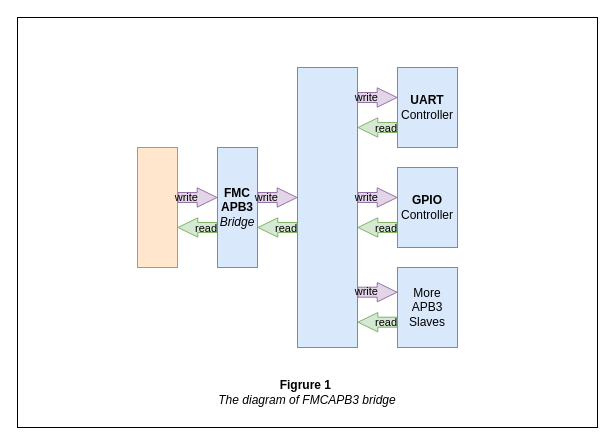
The diagram is 615 pixels wide and 445 high, and some of its shapes have lost their labels. The shapes that lost their labels are listed below. From the top down, each one's box as (x1, y1, x2, y2) in pixels, then its label:
(136, 146, 178, 268): FMC
(296, 66, 358, 348): APB3 Decoder
